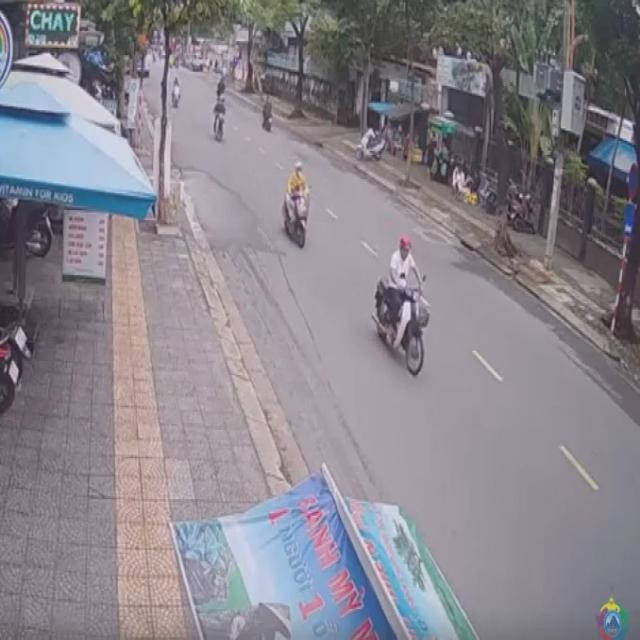motorbike: (369, 235, 430, 380), (282, 156, 311, 251)
